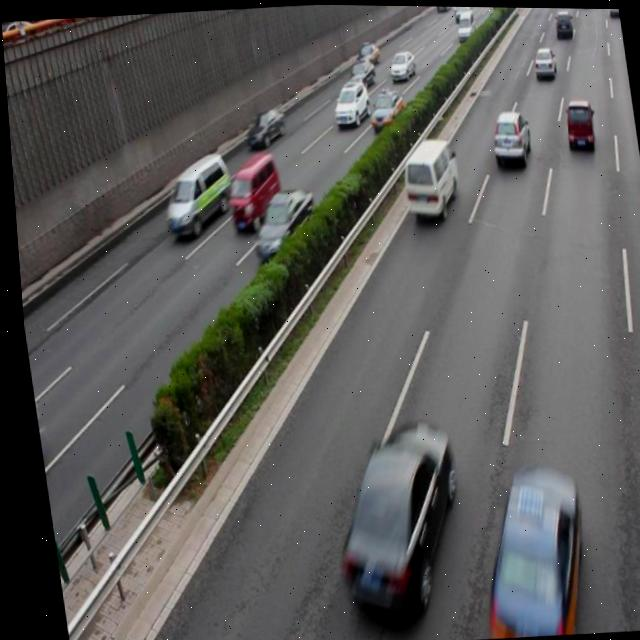car: (314, 416, 462, 611), (462, 463, 585, 638), (243, 185, 319, 263), (484, 107, 531, 168), (327, 77, 369, 127), (240, 106, 285, 151), (559, 97, 593, 150), (364, 88, 404, 130)
truck: (153, 150, 234, 237), (394, 133, 461, 222), (219, 148, 282, 234)
